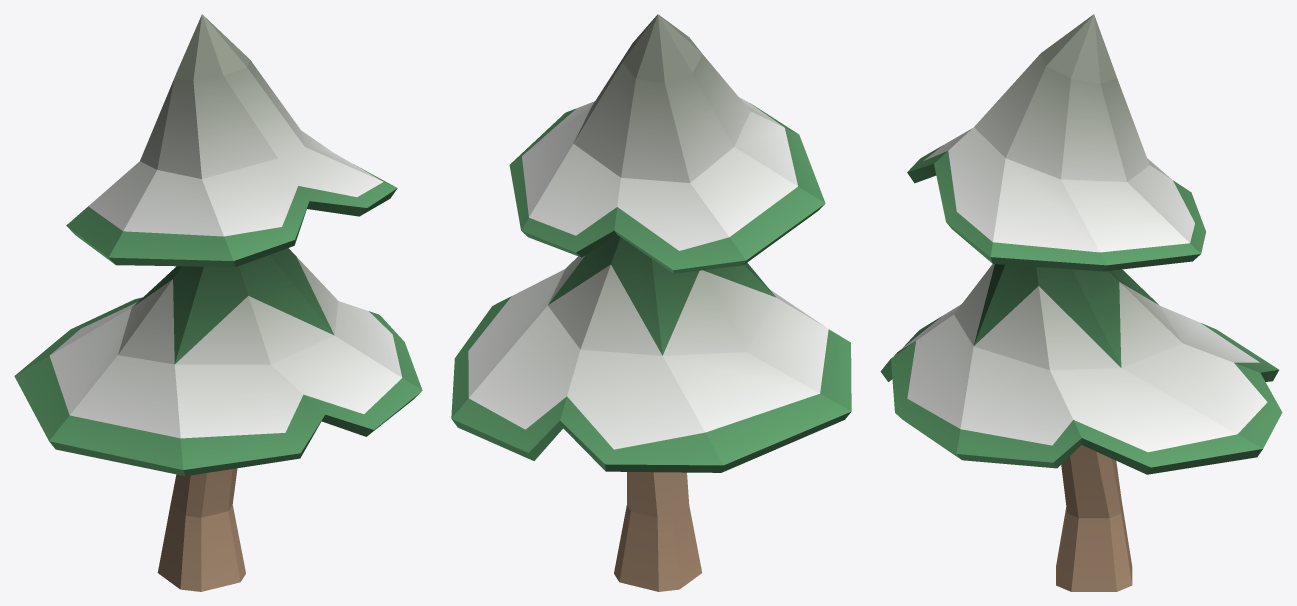
File: SnowPine7.fbx
The picture shows the model from 3 angles, left to right: view 1: azimuth 30°, elevation 25°; view 2: azimuth 150°, elevation 25°; view 3: azimuth 270°, elevation 25°; orthographic projection.
Parts seen in each view (by area): view 1: SnowPine7; view 2: SnowPine7; view 3: SnowPine7.
Boxes of the visible parts, x1=… form: SnowPine7: x1=14, y1=14, x2=422, y2=591; SnowPine7: x1=451, y1=14, x2=851, y2=591; SnowPine7: x1=880, y1=14, x2=1282, y2=591.
Bounding box in the file's own units: 308 × 463 × 300.
